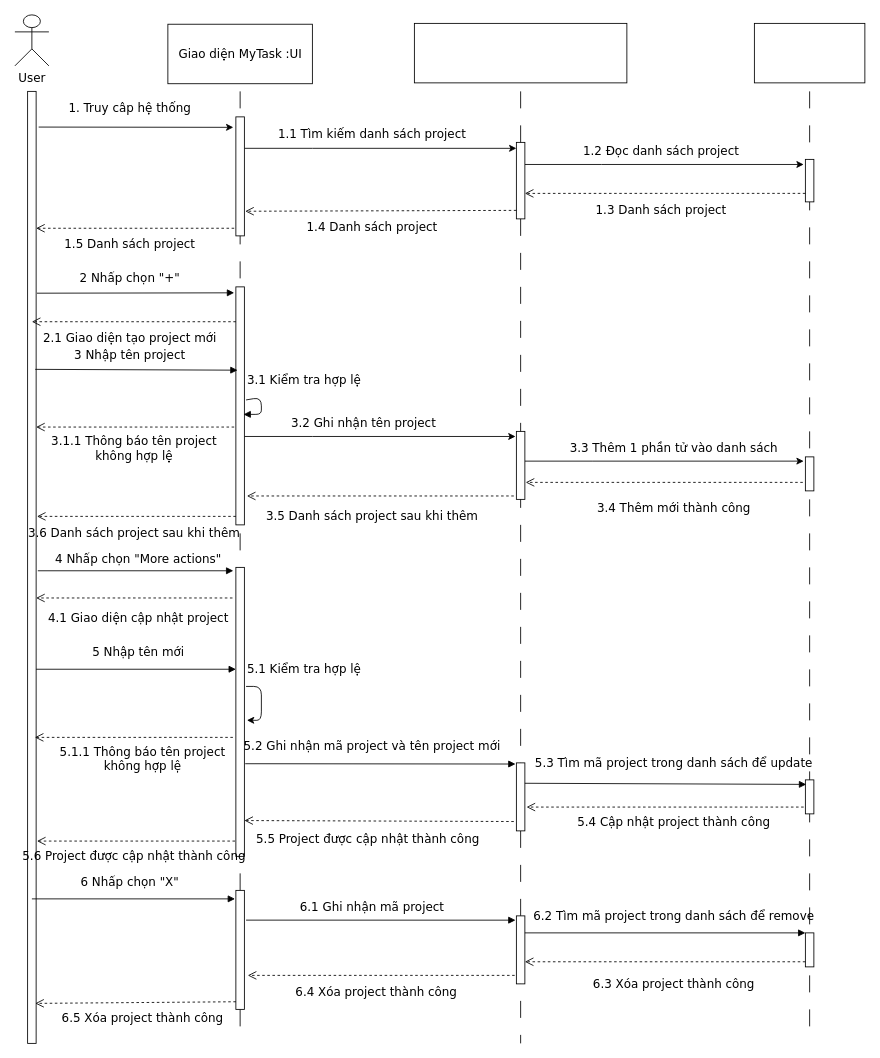
Image size: 880x1058. Some labels were removed from this diagram. Here are the shapes that lost their labels. From the top down, the centre of each, then its label:
At [520,53]: "Project :ProjectController".
At [809,53]: "Database".
